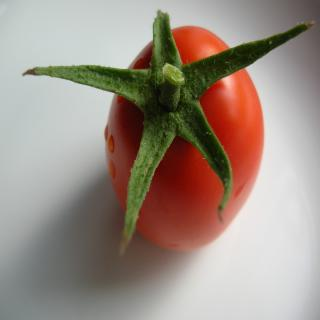tomato: (20, 9, 315, 262)
